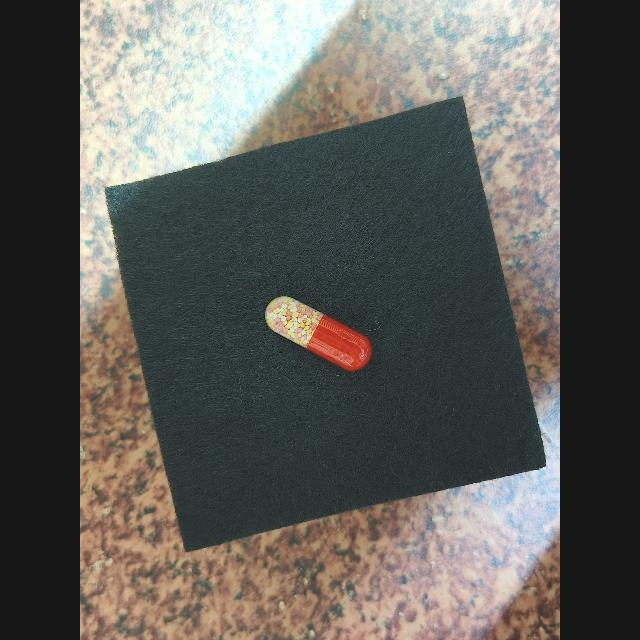Intact Capsule: (265, 296, 372, 371)
